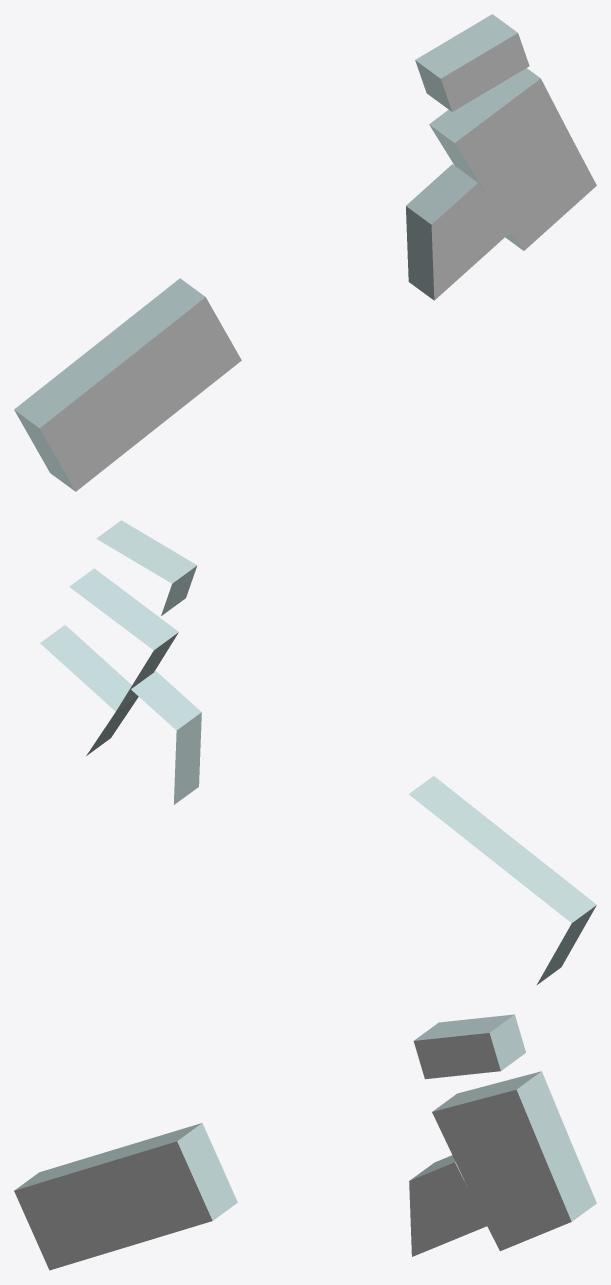
The picture shows the model from 3 angles, top to bottom: view 1: azimuth 30°, elevation 25°; view 2: azimuth 150°, elevation 25°; view 3: azimuth 330°, elevation 25°; orthographic projection.
Visible parts, largest first — view 1: 0_2_2_1_3_3_0_2_3; view 2: 0_2_2_1_3_3_0_2_3; view 3: 0_2_2_1_3_3_0_2_3.
Boxes of the visible parts, x1,y1,x2,y2 form: 0_2_2_1_3_3_0_2_3: (14, 14, 596, 491); 0_2_2_1_3_3_0_2_3: (40, 520, 596, 985); 0_2_2_1_3_3_0_2_3: (14, 1014, 596, 1270).
Bounding box in the file's own units: 37.9 × 22.44 × 3.6.
